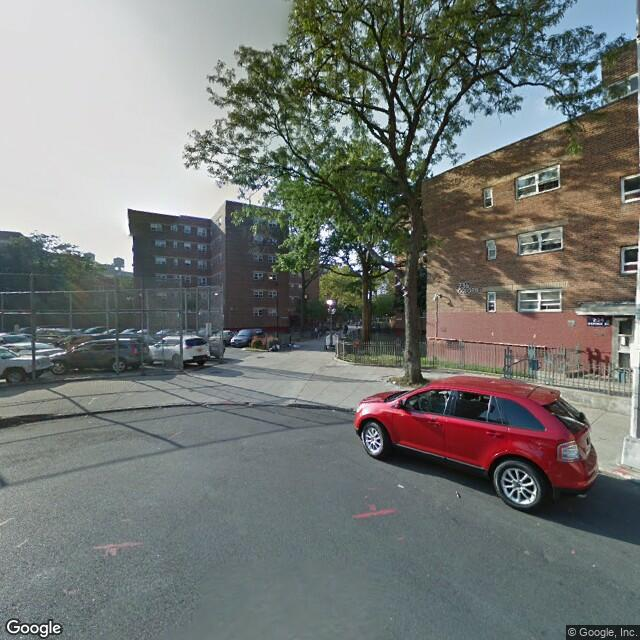litter: (397, 482, 404, 490)
